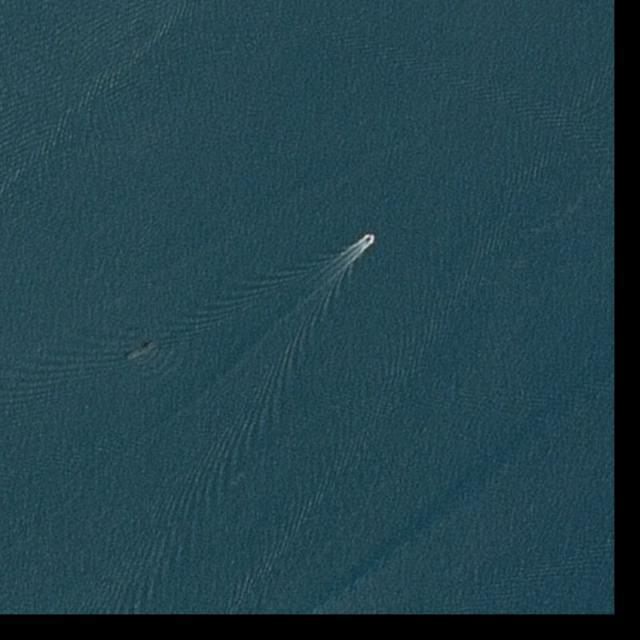ship: (124, 342, 157, 362), (366, 236, 372, 242)
